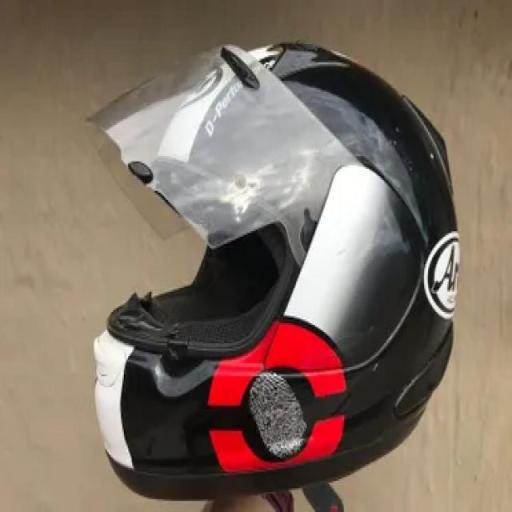Helmet: (92, 44, 459, 499)
